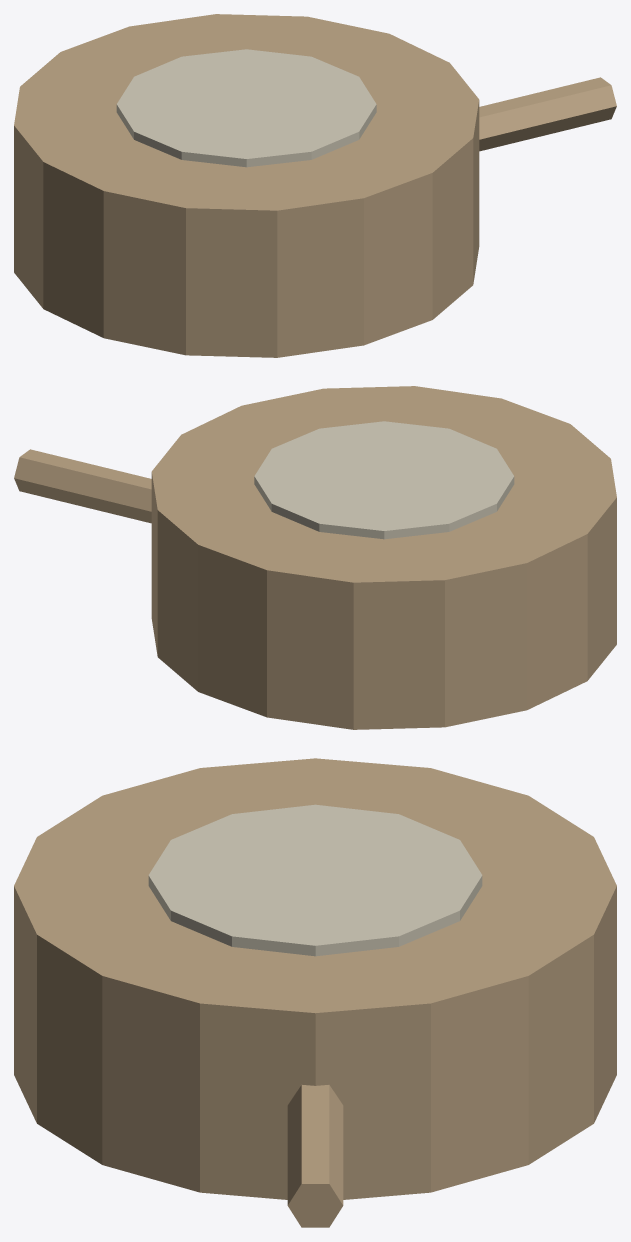
The model's file is duct_tape.glb.
3 views of the same model, one above another, from view 1: azimuth 30°, elevation 25°; view 2: azimuth 150°, elevation 25°; view 3: azimuth 270°, elevation 25° (orthographic). The views are drawn at different scales.
Visible parts, largest first — view 1: 00_tape_roll, 01_cardboard_core, 02_tape_tail; view 2: 00_tape_roll, 01_cardboard_core, 02_tape_tail; view 3: 00_tape_roll, 01_cardboard_core, 02_tape_tail.
Boxes of the visible parts, box(x1,y1,x2,y2) form: 00_tape_roll: box(14, 14, 479, 357); 01_cardboard_core: box(116, 49, 376, 167); 02_tape_tail: box(479, 77, 616, 151); 00_tape_roll: box(151, 386, 616, 729); 01_cardboard_core: box(254, 421, 514, 539); 02_tape_tail: box(14, 449, 151, 523); 00_tape_roll: box(14, 758, 616, 1199); 01_cardboard_core: box(148, 804, 482, 956); 02_tape_tail: box(287, 1085, 343, 1227).
Bounding box in the file's own units: 0.36 × 0.1 × 0.26.
